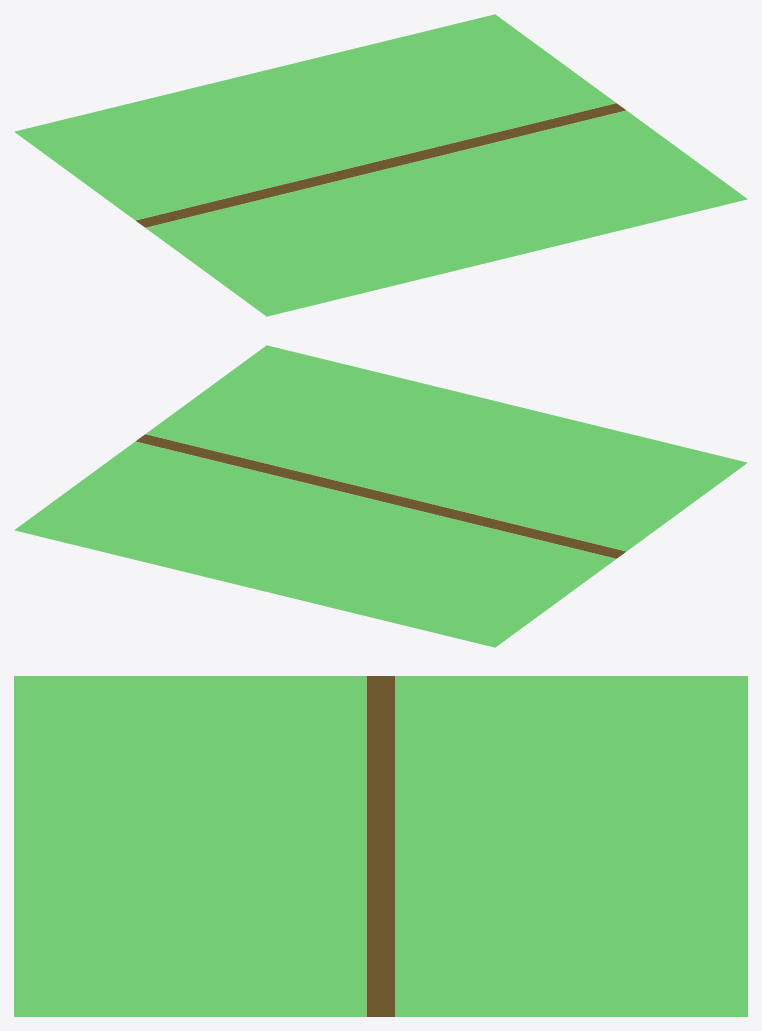
Rendered from Test Planes.fbx.
3 views of the same model, one above another, from view 1: azimuth 30°, elevation 25°; view 2: azimuth 150°, elevation 25°; view 3: azimuth 270°, elevation 25° (orthographic). The views are drawn at different scales.
Visible parts, largest first — view 1: Planes; view 2: Planes; view 3: Planes.
Boxes of the visible parts, x1=… form: Planes: x1=14, y1=14, x2=747, y2=316; Planes: x1=14, y1=345, x2=747, y2=647; Planes: x1=14, y1=676, x2=747, y2=1016.
Size of the model in its own units: 12379 by 0.00183 by 11262.
